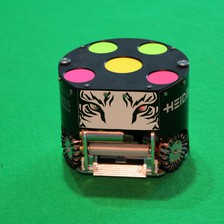robot: (54, 35, 192, 182)
